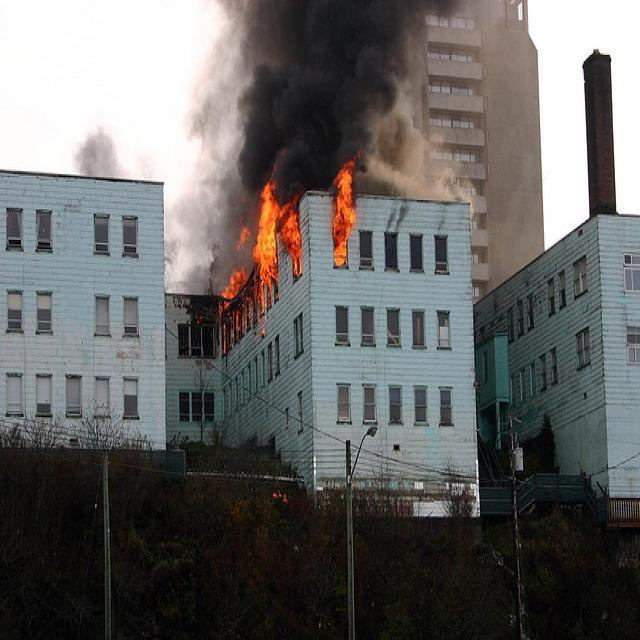Fire: (250, 181, 282, 315), (328, 152, 359, 267), (218, 286, 258, 358), (276, 185, 304, 278), (220, 264, 250, 312), (235, 207, 252, 250), (270, 486, 289, 502), (259, 323, 268, 341)
Smoke: (165, 0, 232, 294), (235, 0, 332, 189), (331, 0, 455, 147), (366, 111, 472, 203), (74, 124, 128, 180)
